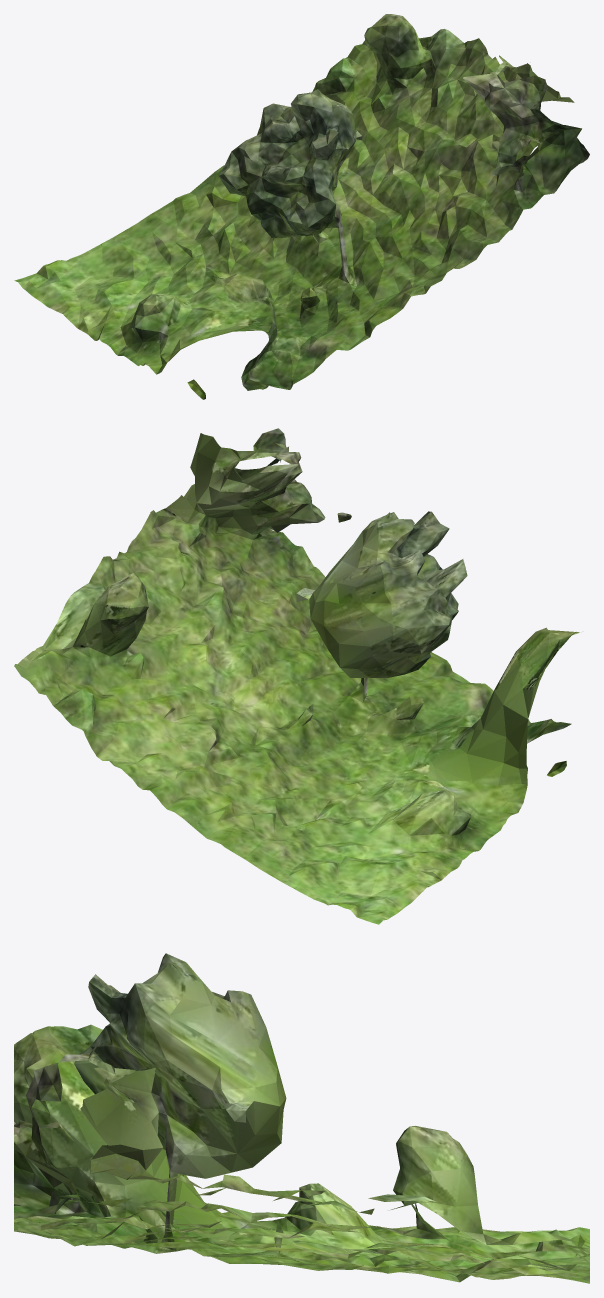
3 renders of one model, top to bottom at view 1: azimuth 30°, elevation 25°; view 2: azimuth 150°, elevation 25°; view 3: azimuth 270°, elevation 25°, orthographic. The views are drawn at different scales.
Bounding box in the file's own units: 26.11 × 18.34 × 26.11.
Materials: 5 (5 with a texture image).
